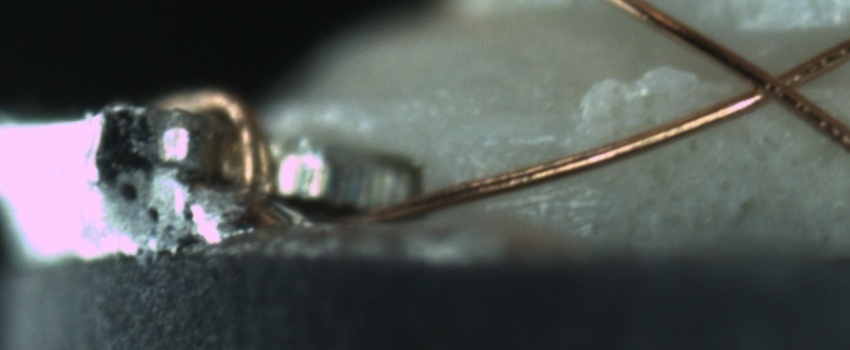CL: (724, 51, 820, 116)
DL: (465, 129, 584, 171)
TE: (148, 71, 281, 211)
